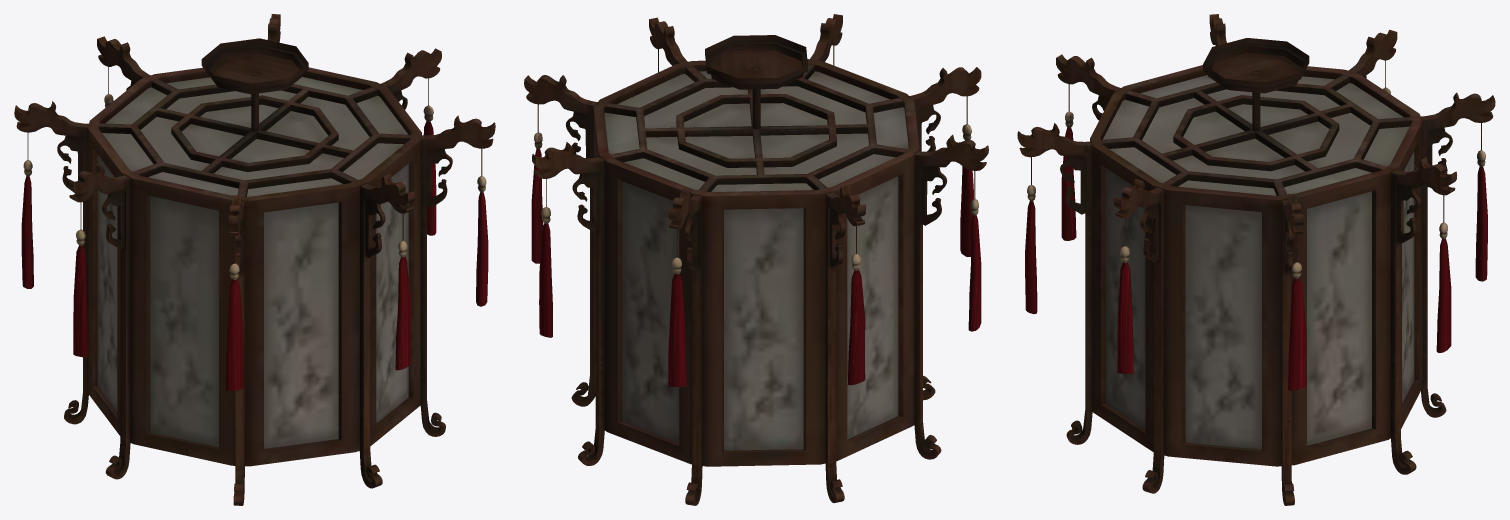
The model's file is chinese_chandelier.glb.
The picture shows the model from 3 angles, left to right: view 1: azimuth 30°, elevation 25°; view 2: azimuth 150°, elevation 25°; view 3: azimuth 270°, elevation 25°; orthographic projection.
Parts seen in each view (by area): view 1: chinese_chandelier; view 2: chinese_chandelier; view 3: chinese_chandelier.
Boxes of the visible parts, left/top/right/bottom form: chinese_chandelier: left=14, top=14, right=495, bottom=505; chinese_chandelier: left=524, top=14, right=988, bottom=505; chinese_chandelier: left=1017, top=14, right=1495, bottom=505.
Size of the model in its own units: 0.8784 by 0.7483 by 0.8787.
1 material, 1 textured.
